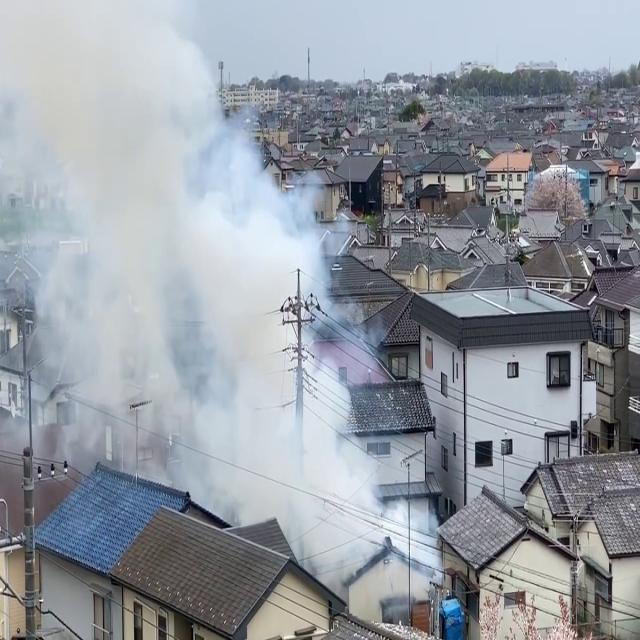Smoke: (1, 3, 392, 579)
